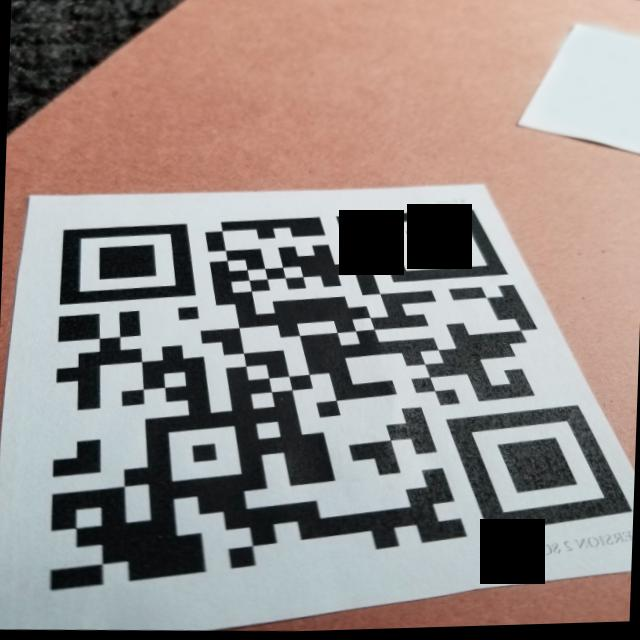QR_CODE: (13, 175, 640, 621)
